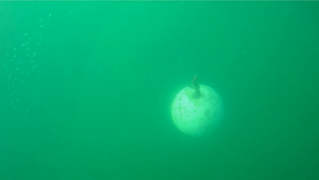buoy: (170, 83, 225, 137)
